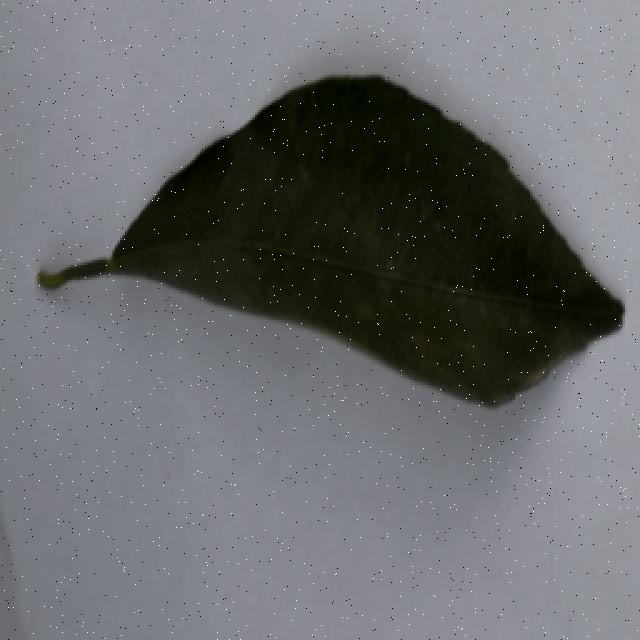healthy: (40, 67, 627, 413)
